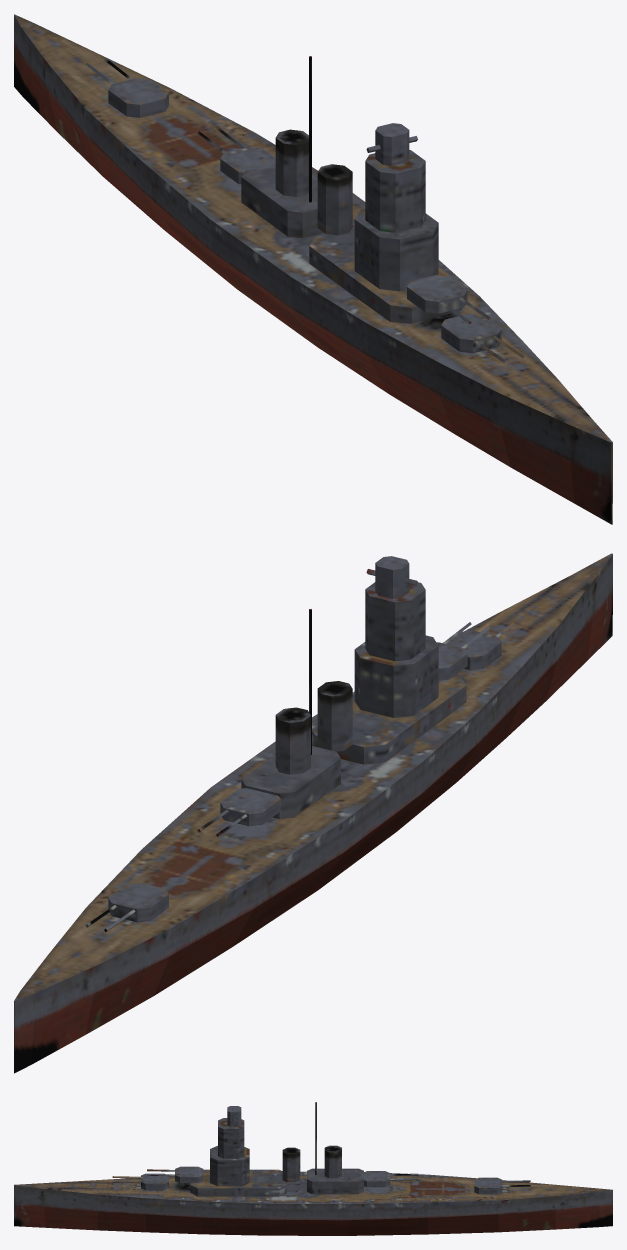
File: simple-far.glb
3 views of the same model, one above another, from view 1: azimuth 30°, elevation 25°; view 2: azimuth 150°, elevation 25°; view 3: azimuth 270°, elevation 25° (orthographic). The views are drawn at different scales.
Visible parts, largest first — view 1: Authored hull sections.001, Authored deck outline.001, Pagoda tier 0.001, Pagoda tier 1.001, Deckhouse 0.001, Deckhouse 1.001, Funnel 0.001, Funnel 1.001, Main turret JGM049Shape1.001, Main turret JGM049Shape.001, Main turret JGM050Shape.001, Pagoda tier 2.001 (+1 smaller); view 2: Authored hull sections.001, Authored deck outline.001, Pagoda tier 0.001, Deckhouse 0.001, Pagoda tier 1.001, Deckhouse 1.001, Funnel 0.001, Funnel 1.001, Main turret JGM049Shape1.001, Main turret JGM050Shape1.001, Pagoda tier 2.001, Main turret JGM049Shape.001 (+1 smaller); view 3: Authored hull sections.001, Authored deck outline.001, Deckhouse 0.001, Deckhouse 1.001, Pagoda tier 0.001, Pagoda tier 1.001, Funnel 0.001, Funnel 1.001, Main turret JGM049Shape1.001, Main turret JGM050Shape.001, Main turret JGM049Shape.001, Main turret JGM050Shape1.001 (+1 smaller).
Part boxes in pixels (x1=…): Authored hull sections.001: x1=14, y1=15, x2=612, y2=524; Authored deck outline.001: x1=14, y1=14, x2=612, y2=442; Pagoda tier 0.001: x1=354, y1=209, x2=438, y2=291; Pagoda tier 1.001: x1=365, y1=150, x2=425, y2=232; Deckhouse 0.001: x1=309, y1=227, x2=466, y2=323; Deckhouse 1.001: x1=241, y1=163, x2=323, y2=237; Funnel 0.001: x1=317, y1=164, x2=352, y2=235; Funnel 1.001: x1=275, y1=129, x2=308, y2=196; Main turret JGM049Shape1.001: x1=108, y1=78, x2=168, y2=117; Main turret JGM049Shape.001: x1=441, y1=313, x2=501, y2=353; Main turret JGM050Shape.001: x1=407, y1=275, x2=467, y2=313; Pagoda tier 2.001: x1=375, y1=123, x2=409, y2=165; Authored hull sections.001: x1=14, y1=554, x2=612, y2=1073; Authored deck outline.001: x1=14, y1=553, x2=612, y2=1000; Pagoda tier 0.001: x1=354, y1=635, x2=438, y2=717; Deckhouse 0.001: x1=312, y1=675, x2=466, y2=764; Pagoda tier 1.001: x1=365, y1=582, x2=425, y2=661; Deckhouse 1.001: x1=241, y1=746, x2=340, y2=819; Funnel 0.001: x1=317, y1=681, x2=352, y2=751; Funnel 1.001: x1=275, y1=707, x2=310, y2=774; Main turret JGM049Shape1.001: x1=108, y1=882, x2=168, y2=922; Main turret JGM050Shape1.001: x1=220, y1=788, x2=280, y2=826; Pagoda tier 2.001: x1=375, y1=556, x2=409, y2=598; Main turret JGM049Shape.001: x1=446, y1=630, x2=501, y2=670; Authored hull sections.001: x1=14, y1=1185, x2=612, y2=1235; Authored deck outline.001: x1=14, y1=1171, x2=612, y2=1204; Deckhouse 0.001: x1=190, y1=1169, x2=286, y2=1196; Deckhouse 1.001: x1=307, y1=1168, x2=363, y2=1194; Pagoda tier 0.001: x1=210, y1=1146, x2=249, y2=1186; Pagoda tier 1.001: x1=218, y1=1118, x2=244, y2=1158; Funnel 0.001: x1=282, y1=1147, x2=300, y2=1182; Funnel 1.001: x1=324, y1=1145, x2=341, y2=1178; Main turret JGM049Shape1.001: x1=474, y1=1177, x2=502, y2=1194; Main turret JGM050Shape.001: x1=175, y1=1166, x2=203, y2=1182; Main turret JGM049Shape.001: x1=141, y1=1173, x2=168, y2=1190; Main turret JGM050Shape1.001: x1=364, y1=1171, x2=390, y2=1187.
Bounding box in the file's own units: 17.64 × 31 × 136.
Materials: 1 (1 with a texture image).
